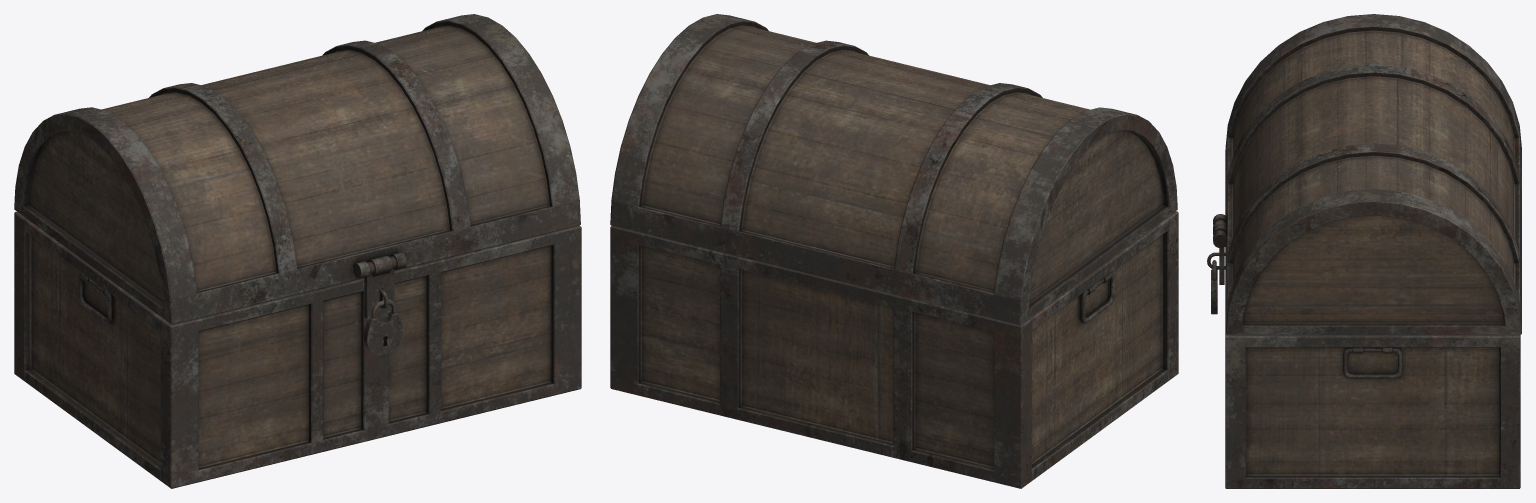
File: chest.glb
3 views of the same model, side by side, from view 1: azimuth 30°, elevation 25°; view 2: azimuth 150°, elevation 25°; view 3: azimuth 270°, elevation 25° (orthographic). The views are drawn at different scales.
Parts seen in each view (by area): view 1: chest_lid, chest_body, chest_lock; view 2: chest_lid, chest_body; view 3: chest_lid, chest_body, chest_lock.
Part boxes in pixels (x1,y1,x2,y2): chest_lid: (14, 14, 580, 324); chest_body: (14, 211, 581, 488); chest_lock: (363, 299, 403, 355); chest_lid: (610, 14, 1177, 325); chest_body: (610, 211, 1178, 488); chest_lid: (1213, 14, 1521, 334); chest_body: (1207, 150, 1520, 488); chest_lock: (1211, 260, 1217, 314).
Bounding box in the file's own units: 0.92 × 0.6534 × 0.6476.
1 material, 1 textured.
